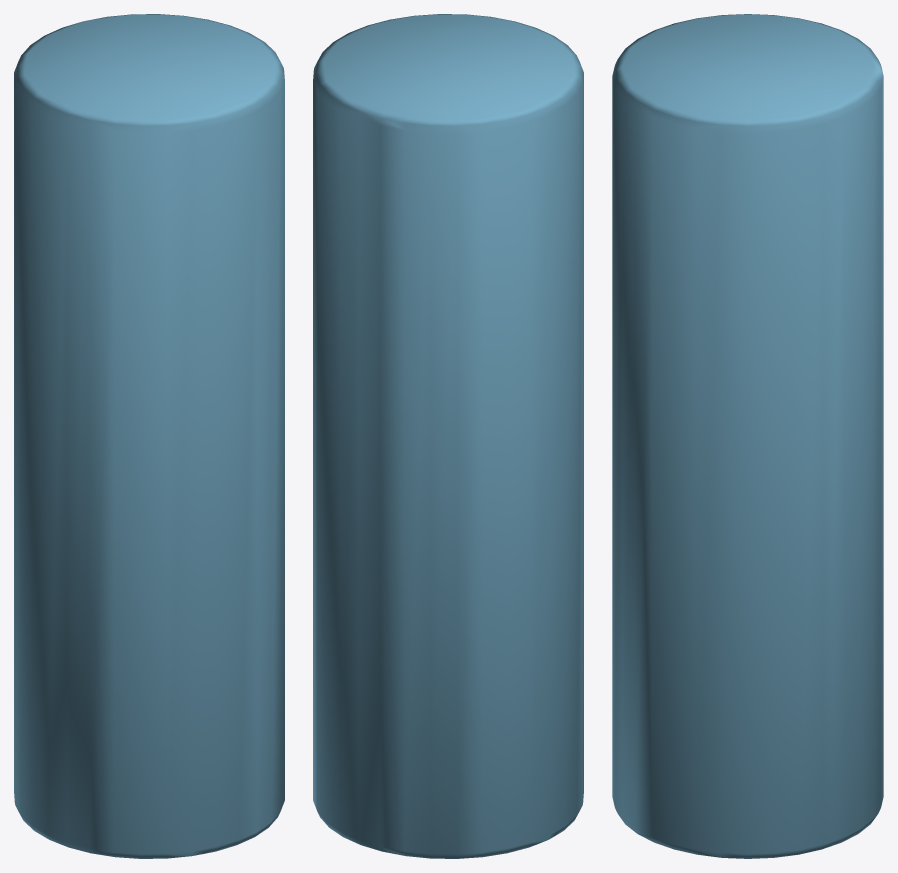
File: S01_ROUND_COLUMN.fbx
3 views of the same model, side by side, from view 1: azimuth 30°, elevation 25°; view 2: azimuth 150°, elevation 25°; view 3: azimuth 270°, elevation 25° (orthographic).
Parts seen in each view (by area): view 1: S01_ROUND_COLUMN; view 2: S01_ROUND_COLUMN; view 3: S01_ROUND_COLUMN.
Part boxes in pixels (x1,y1,x2,y2): S01_ROUND_COLUMN: (14, 14, 284, 858); S01_ROUND_COLUMN: (313, 14, 583, 858); S01_ROUND_COLUMN: (612, 14, 883, 858).
Size of the model in its own units: 100 by 300 by 100.
